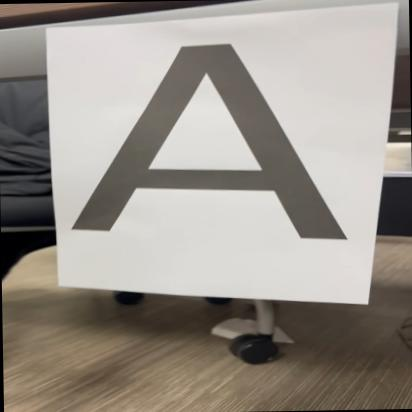seat: (56, 36, 369, 250)
